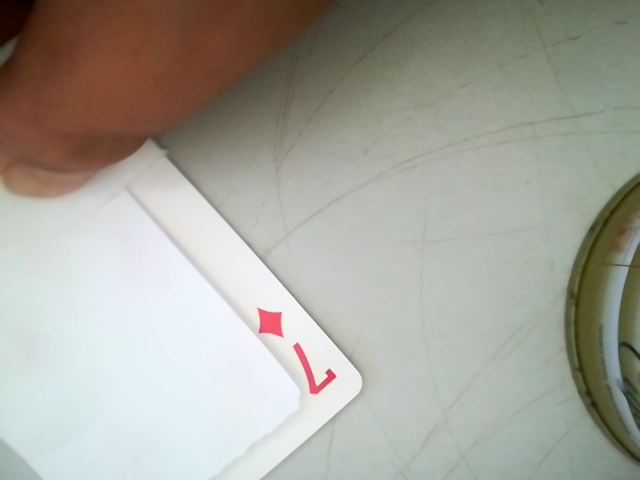fk 7: (251, 305, 349, 416)
